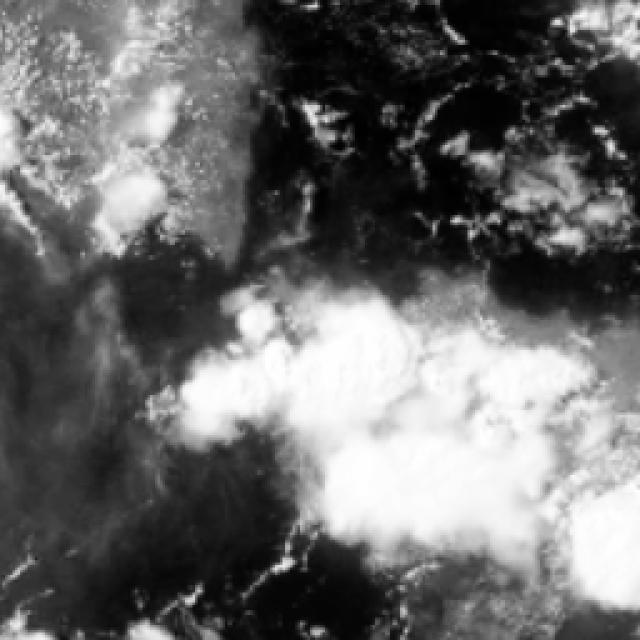CB: (344, 445, 526, 529)
